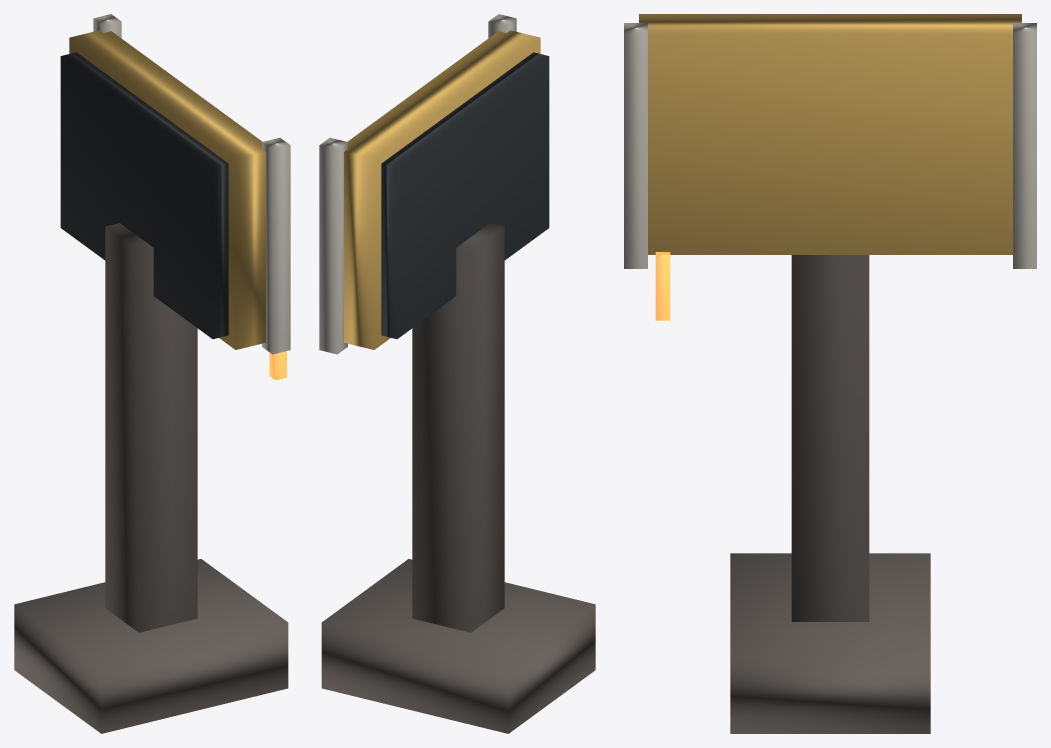
Rendered from solar-yard-reflector-pylon-lod1.glb.
3 views of the same model, side by side, from view 1: azimuth 30°, elevation 25°; view 2: azimuth 150°, elevation 25°; view 3: azimuth 270°, elevation 25° (orthographic). The views are drawn at different scales.
Parts seen in each view (by area): view 1: solar-yard-reflector-pylon-mast, solar-yard-reflector-pylon-base, solar-yard-reflector-pylon-backplane, solar-yard-reflector-pylon-face, solar-yard-reflector-pylon-rim-right, solar-yard-reflector-pylon-rim-left, solar-yard-reflector-pylon-status; view 2: solar-yard-reflector-pylon-mast, solar-yard-reflector-pylon-base, solar-yard-reflector-pylon-backplane, solar-yard-reflector-pylon-face, solar-yard-reflector-pylon-rim-left, solar-yard-reflector-pylon-rim-right; view 3: solar-yard-reflector-pylon-face, solar-yard-reflector-pylon-base, solar-yard-reflector-pylon-mast, solar-yard-reflector-pylon-rim-left, solar-yard-reflector-pylon-rim-right, solar-yard-reflector-pylon-status.
Part boxes in pixels (x1,y1,x2,y2): solar-yard-reflector-pylon-mast: [105, 223, 197, 632]; solar-yard-reflector-pylon-base: [14, 559, 288, 733]; solar-yard-reflector-pylon-backplane: [60, 52, 228, 338]; solar-yard-reflector-pylon-face: [69, 30, 265, 349]; solar-yard-reflector-pylon-rim-right: [262, 137, 290, 354]; solar-yard-reflector-pylon-rim-left: [93, 14, 121, 38]; solar-yard-reflector-pylon-status: [269, 351, 286, 380]; solar-yard-reflector-pylon-mast: [412, 223, 504, 632]; solar-yard-reflector-pylon-base: [321, 559, 595, 733]; solar-yard-reflector-pylon-backplane: [381, 52, 549, 338]; solar-yard-reflector-pylon-face: [344, 30, 540, 349]; solar-yard-reflector-pylon-rim-left: [319, 137, 347, 354]; solar-yard-reflector-pylon-rim-right: [488, 14, 516, 38]; solar-yard-reflector-pylon-face: [639, 14, 1021, 254]; solar-yard-reflector-pylon-base: [730, 553, 930, 733]; solar-yard-reflector-pylon-mast: [791, 255, 869, 621]; solar-yard-reflector-pylon-rim-left: [1013, 23, 1036, 268]; solar-yard-reflector-pylon-rim-right: [624, 23, 647, 268]; solar-yard-reflector-pylon-status: [655, 252, 670, 320].
Bounding box in the file's own units: 1.66 × 4.99 × 2.76.
